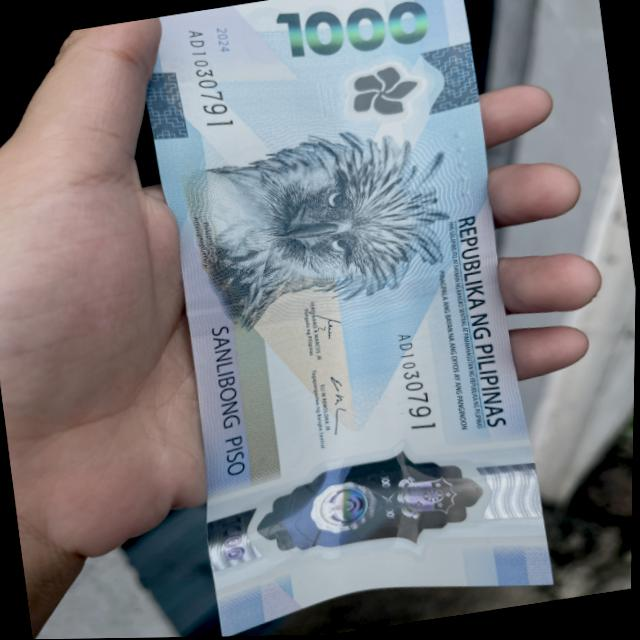clear_window: (235, 430, 484, 574)
eagle: (169, 126, 452, 318)
sampaguita: (296, 55, 441, 140)
security_thread: (184, 262, 504, 348)
serial_number: (174, 23, 248, 143), (388, 328, 446, 449)
value_watermark: (221, 512, 266, 575)
